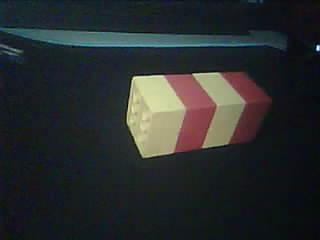lego: (126, 72, 271, 159)
